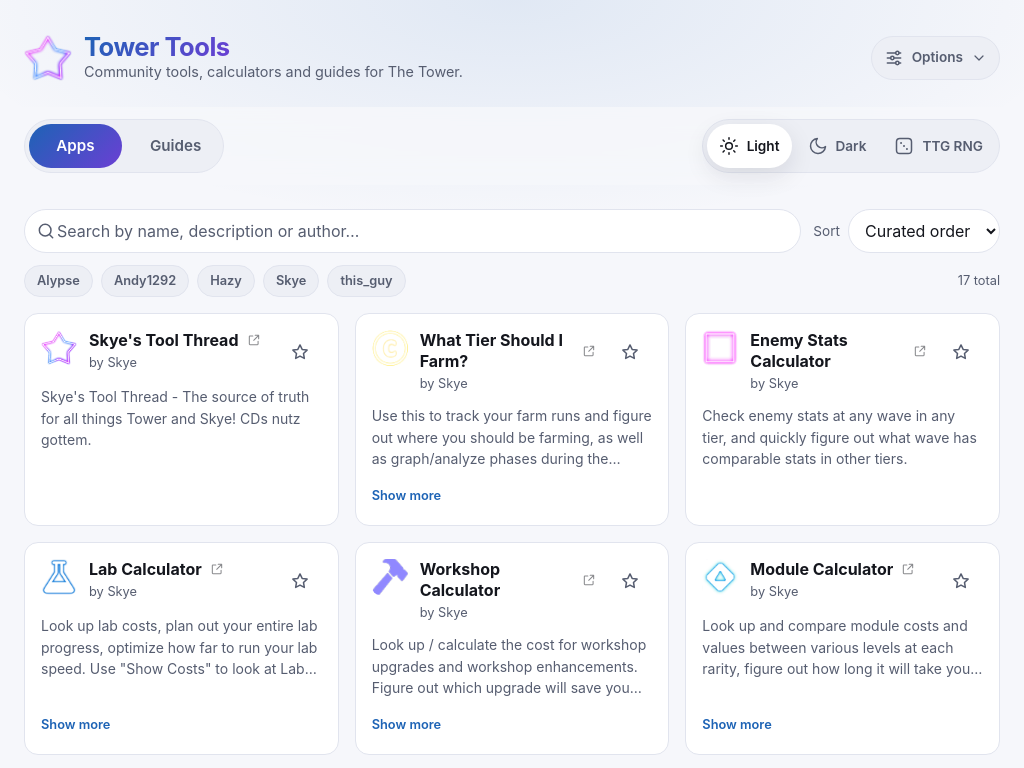
Scenario: toolbar › filters by author chip and clears again
Click the button "Andy1292" at [145, 281], box top-left (101, 265), bottom-right (189, 297)
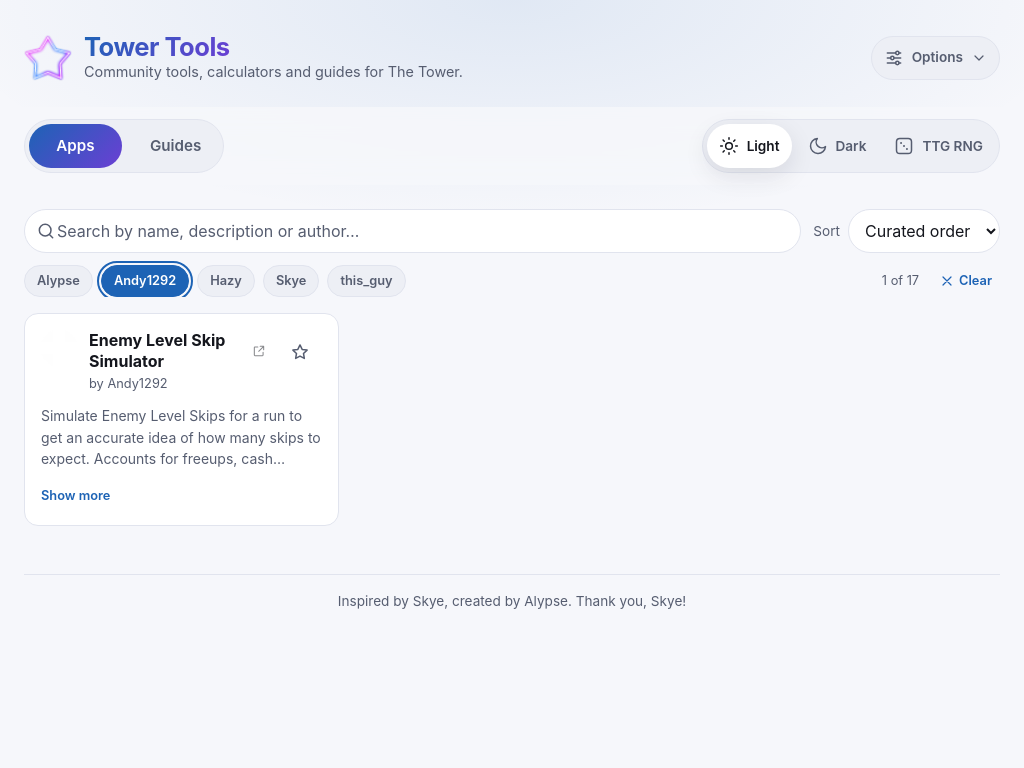
expect the link "Enemy Level Skip Simulator" is shown: met, box top-left (89, 330), bottom-right (266, 372)
expect the link "Bot Calculator" is not shown: met
Click the button "Clear" at [966, 281], box top-left (931, 267), bottom-right (1000, 295)
(page scrolled)
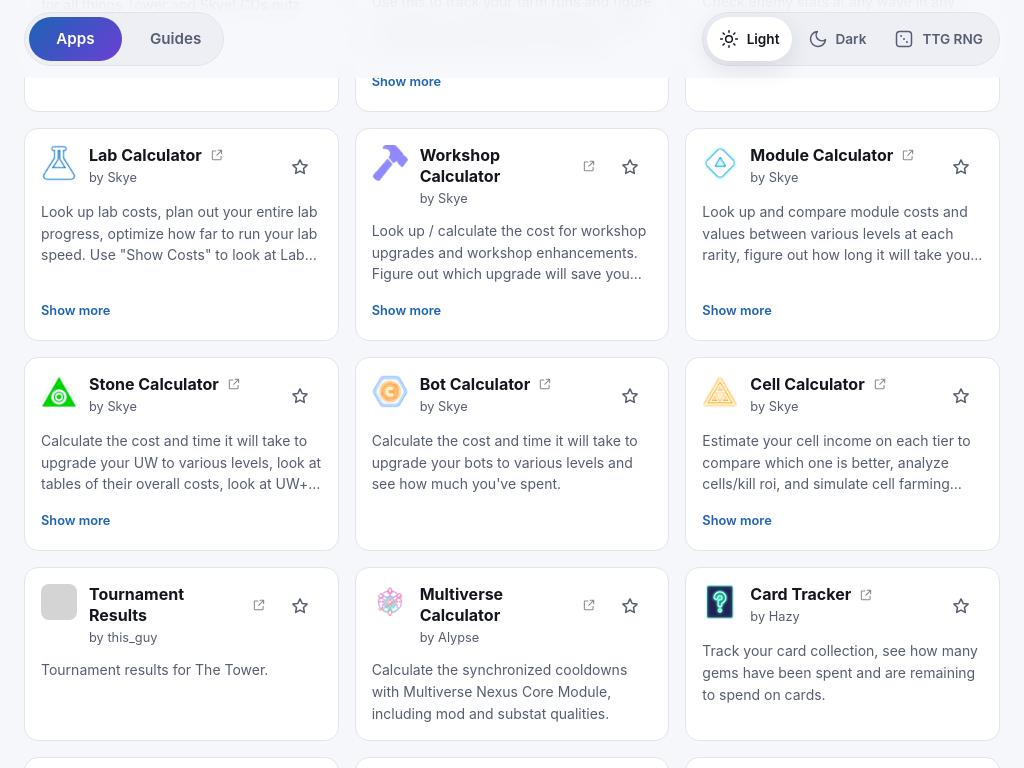
expect the link "Bot Calculator" is shown: met, box top-left (420, 374), bottom-right (552, 395)
